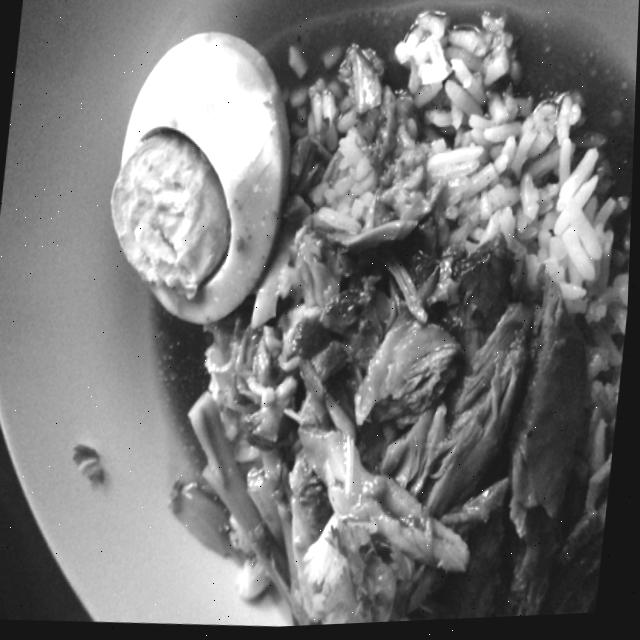猪肉菜式: (11, 0, 640, 639)
